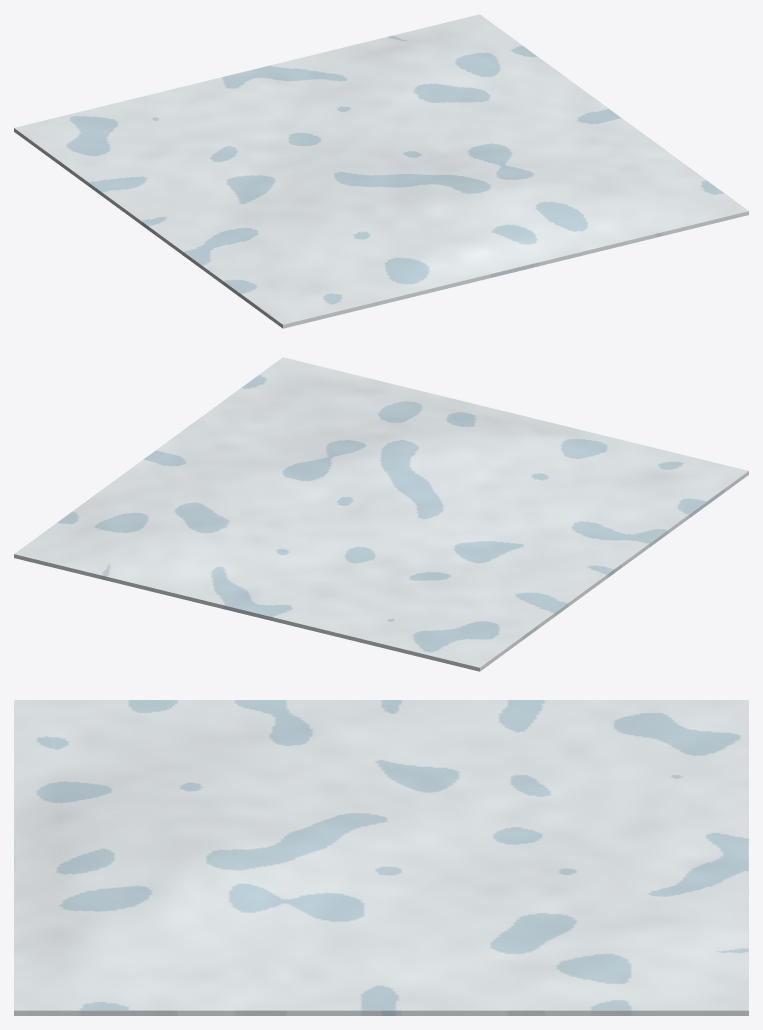
Rendered from Snow_Flat_12.obj.
3 renders of one model, top to bottom at view 1: azimuth 30°, elevation 25°; view 2: azimuth 150°, elevation 25°; view 3: azimuth 270°, elevation 25°, orthographic. The views are drawn at different scales.
Bounding box in the file's own units: 10 × 0.3953 × 10.
1 material, 1 textured.
